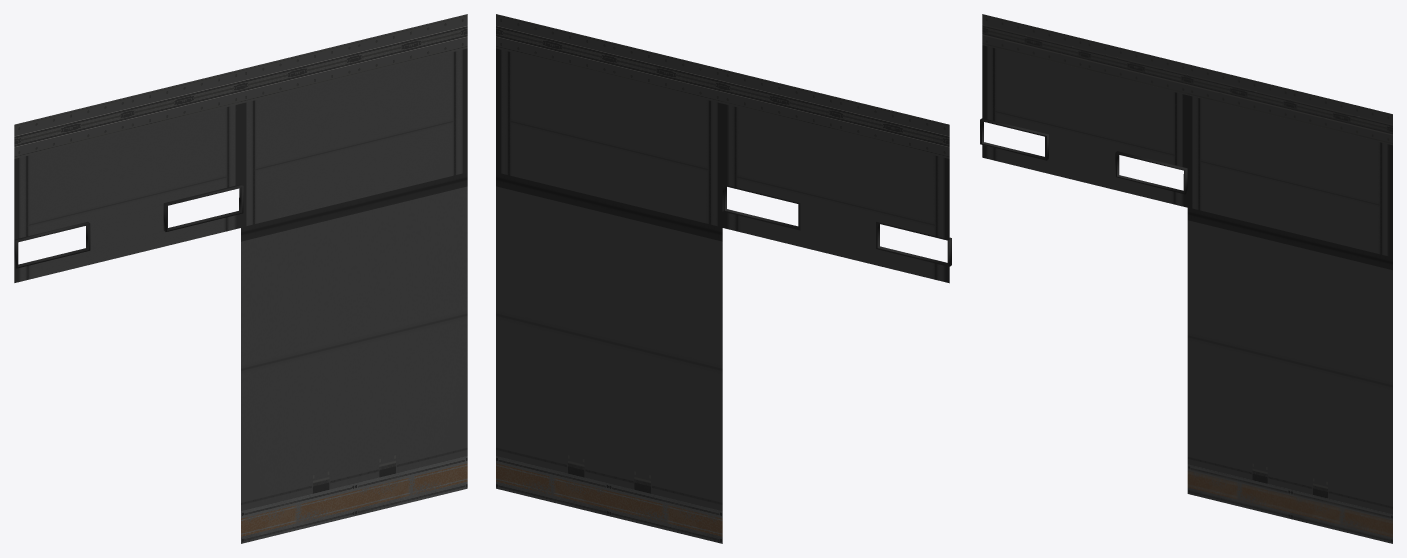
File: WallVariation1.fbx
3 renders of one model, left to right at view 1: azimuth 30°, elevation 25°; view 2: azimuth 150°, elevation 25°; view 3: azimuth 330°, elevation 25°, orthographic. The views are drawn at different scales.
Parts seen in each view (by area): view 1: WallVariation2, WallVariation1, WallVariation3; view 2: WallVariation2, WallVariation1, WallVariation3; view 3: WallVariation2, WallVariation1, WallVariation3.
Boxes of the visible parts, x1=… form: WallVariation2: x1=241, y1=172, x2=467, y2=543; WallVariation1: x1=241, y1=14, x2=467, y2=227; WallVariation3: x1=14, y1=69, x2=243, y2=282; WallVariation2: x1=496, y1=172, x2=722, y2=543; WallVariation1: x1=496, y1=14, x2=722, y2=227; WallVariation3: x1=722, y1=69, x2=951, y2=283; WallVariation2: x1=1187, y1=207, x2=1392, y2=543; WallVariation1: x1=1187, y1=64, x2=1392, y2=257; WallVariation3: x1=980, y1=14, x2=1187, y2=207.
Bounding box in the file's own units: 600 × 600 × 5.29.
